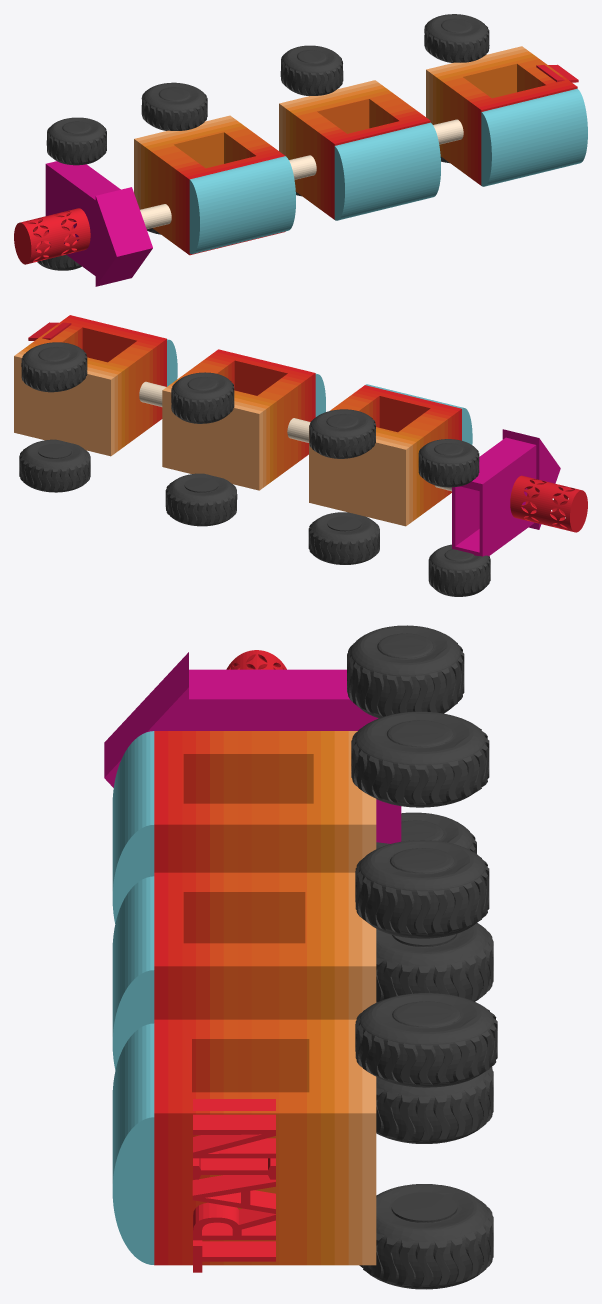
The model's file is tinker.obj.
The picture shows the model from 3 angles, top to bottom: view 1: azimuth 30°, elevation 25°; view 2: azimuth 150°, elevation 25°; view 3: azimuth 270°, elevation 25°; orthographic projection. The views are drawn at different scales.
Visible parts, largest first — view 1: group_0_7720667, group_0_4210752, group_0_14093196, group_0_15296029, group_0_15299613, group_0_15277357, group_0_15277345, group_0_15280157, group_0_16222768, group_0_16096596, group_0_15302429, group_0_15281949 (+8 smaller); view 2: group_0_4210752, group_0_16756846, group_0_14093196, group_0_15281949, group_0_15277357, group_0_15296029, group_0_15280157, group_0_15277345, group_0_15302429, group_0_16222768, group_0_7720667, group_0_16096596 (+8 smaller); view 3: group_0_4210752, group_0_7720667, group_0_14093196, group_0_15296029, group_0_15277357, group_0_15277345, group_0_15280157, group_0_16222768, group_0_15299613, group_0_15302429, group_0_15281949, group_0_16096596 (+7 smaller).
Boxes of the visible parts, x1,y1,x2,y2 form: group_0_7720667: [189, 88, 587, 254]; group_0_4210752: [33, 14, 489, 270]; group_0_14093196: [45, 161, 152, 286]; group_0_15296029: [151, 59, 545, 231]; group_0_15299613: [148, 56, 538, 207]; group_0_15277357: [14, 64, 578, 264]; group_0_15277345: [186, 84, 577, 255]; group_0_15280157: [182, 81, 573, 252]; group_0_16222768: [141, 51, 531, 209]; group_0_16096596: [137, 48, 528, 209]; group_0_15302429: [144, 53, 535, 208]; group_0_15281949: [179, 79, 569, 249]; group_0_4210752: [19, 342, 490, 596]; group_0_16756846: [14, 353, 409, 526]; group_0_14093196: [452, 429, 560, 556]; group_0_15281949: [60, 320, 454, 492]; group_0_15277357: [28, 322, 587, 532]; group_0_15296029: [32, 338, 430, 512]; group_0_15280157: [63, 317, 458, 454]; group_0_15277345: [67, 315, 461, 440]; group_0_15302429: [25, 346, 419, 518]; group_0_16222768: [21, 348, 416, 520]; group_0_7720667: [167, 339, 472, 444]; group_0_16096596: [18, 351, 412, 523]; group_0_4210752: [347, 625, 497, 1289]; group_0_7720667: [112, 731, 154, 1264]; group_0_14093196: [104, 652, 401, 843]; group_0_15296029: [279, 731, 306, 1265]; group_0_15277357: [192, 650, 286, 1272]; group_0_15277345: [154, 731, 168, 1265]; group_0_15280157: [168, 731, 182, 1265]; group_0_16222768: [334, 731, 348, 1265]; group_0_15299613: [307, 731, 320, 1265]; group_0_15302429: [321, 731, 334, 1265]; group_0_15281949: [182, 731, 195, 1265]; group_0_16096596: [348, 731, 362, 1265].
Size of the model in its own units: 298 by 75 by 94.
